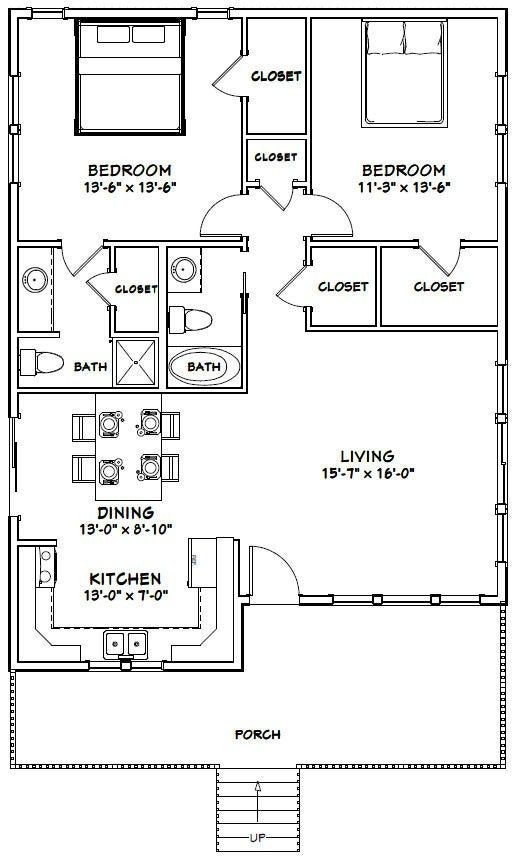door: (235, 533, 306, 608), (410, 234, 467, 290), (191, 189, 249, 242), (211, 52, 270, 102), (306, 189, 361, 242), (273, 274, 318, 312)
